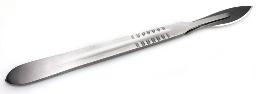scalpel: (5, 5, 253, 87)
